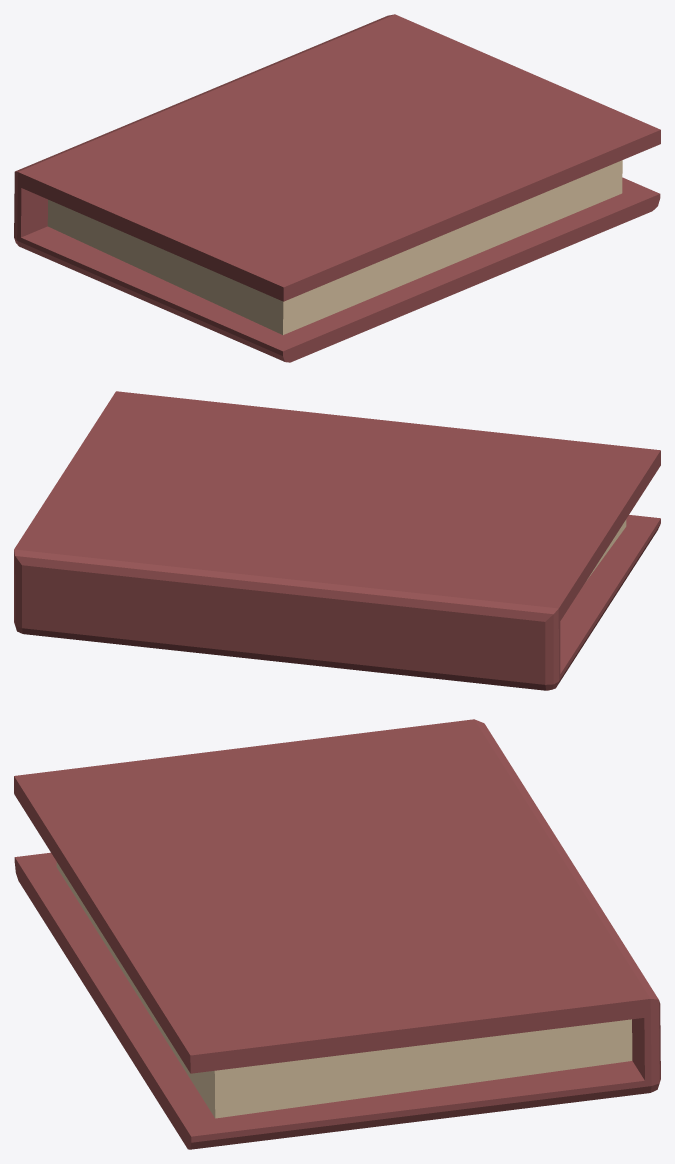
The model's file is BookRed.fbx.
3 views of the same model, one above another, from view 1: azimuth 30°, elevation 25°; view 2: azimuth 150°, elevation 25°; view 3: azimuth 270°, elevation 25° (orthographic). The views are drawn at different scales.
Visible parts, largest first — view 1: Cube.011; view 2: Cube.011; view 3: Cube.011.
Boxes of the visible parts, x1,y1,x2,y2 form: Cube.011: (14,14,660,362); Cube.011: (14,391,660,690); Cube.011: (14,719,660,1149).
Bounding box in the file's own units: 89.34 × 13.5 × 74.16.
